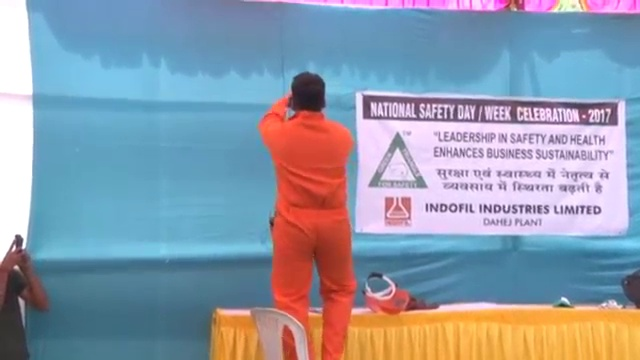helmet_off: (291, 72, 329, 112)
person: (257, 72, 361, 360), (1, 234, 52, 360)
